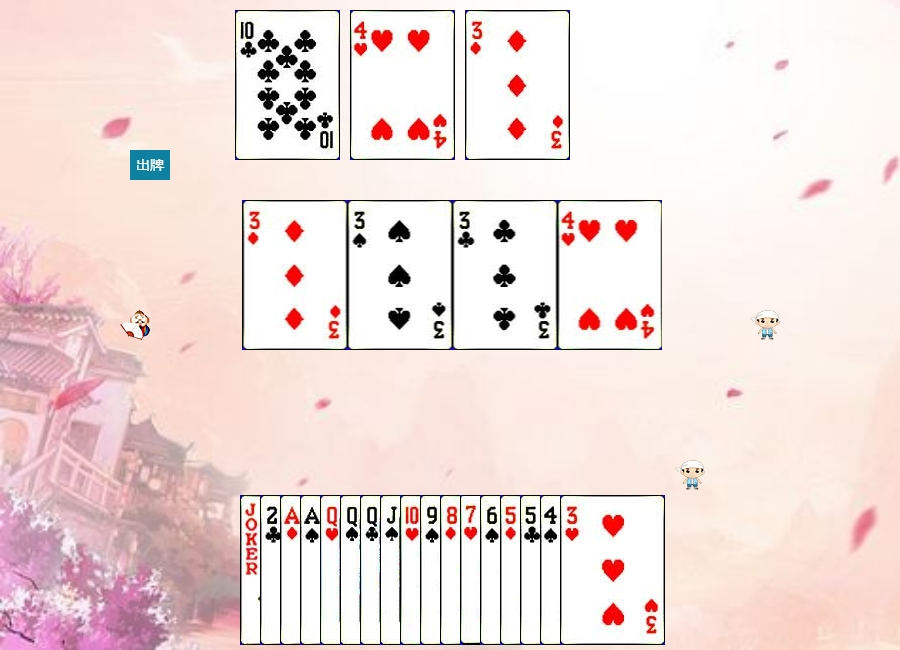10~2: (235, 10, 340, 160)
10~3: (400, 495, 505, 645)
11~4: (380, 495, 485, 645)
12~2: (360, 495, 465, 645)
12~3: (320, 495, 425, 645)
12~4: (340, 495, 445, 645)
14~1: (280, 495, 385, 645)
14~4: (300, 495, 405, 645)
15~2: (260, 495, 365, 645)
18~4: (240, 495, 345, 645)
3~1: (465, 10, 570, 160), (243, 200, 348, 350)
3~2: (453, 200, 558, 350)
3~3: (560, 495, 665, 645)
3~4: (348, 200, 453, 350)
4~3: (350, 10, 455, 160), (558, 200, 663, 350)
4~4: (540, 495, 645, 645)
5~1: (500, 495, 605, 645)
5~2: (520, 495, 625, 645)
6~4: (480, 495, 585, 645)
7~3: (460, 495, 565, 645)
8~1: (440, 495, 545, 645)
9~4: (420, 495, 525, 645)
